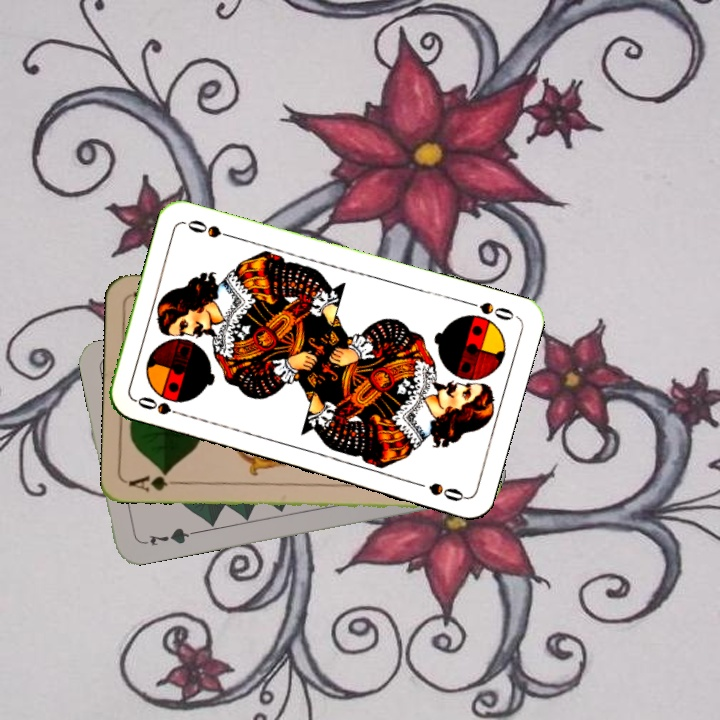G7: (137, 523, 196, 549)
GA: (126, 468, 185, 495)
SO: (131, 392, 189, 420), (461, 296, 519, 323)
